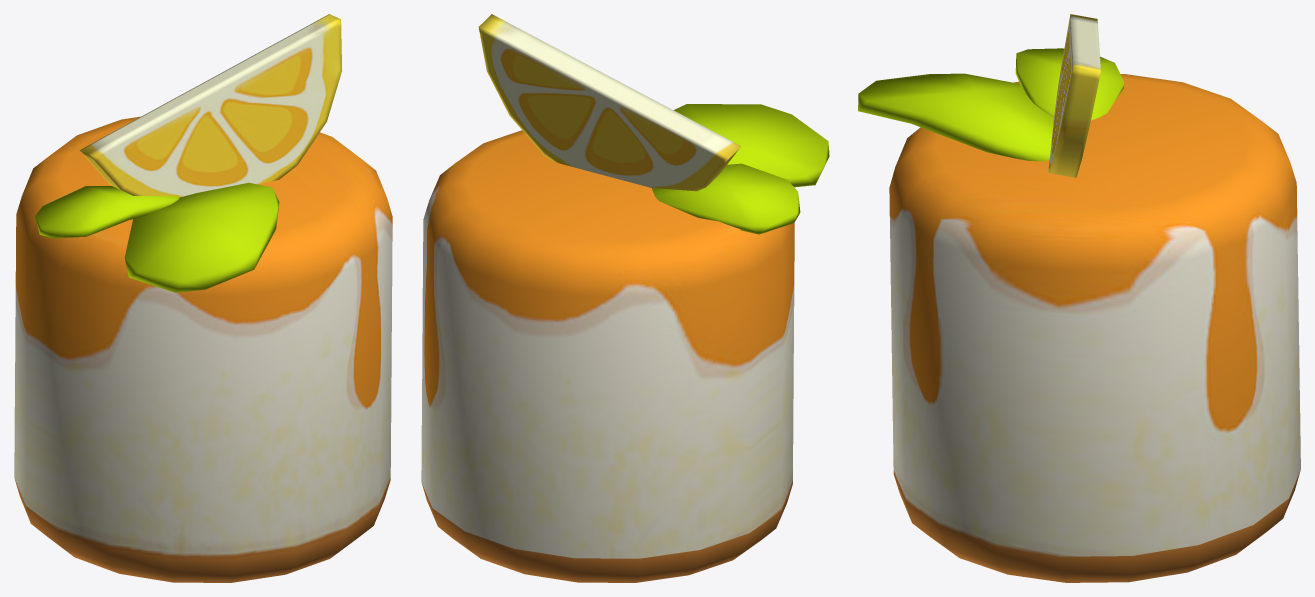
Rendered from orange_cake.glb.
3 views of the same model, side by side, from view 1: azimuth 30°, elevation 25°; view 2: azimuth 150°, elevation 25°; view 3: azimuth 270°, elevation 25° (orthographic). The views are drawn at different scales.
Parts seen in each view (by area): view 1: orange_cake; view 2: orange_cake; view 3: orange_cake.
Part boxes in pixels (<box>): orange_cake: <box>14,14,392,582</box>; orange_cake: <box>421,14,829,582</box>; orange_cake: <box>858,14,1300,582</box>.
Size of the model in its own units: 0.4845 by 0.654 by 0.5094.
Materials: 1 (1 with a texture image).
